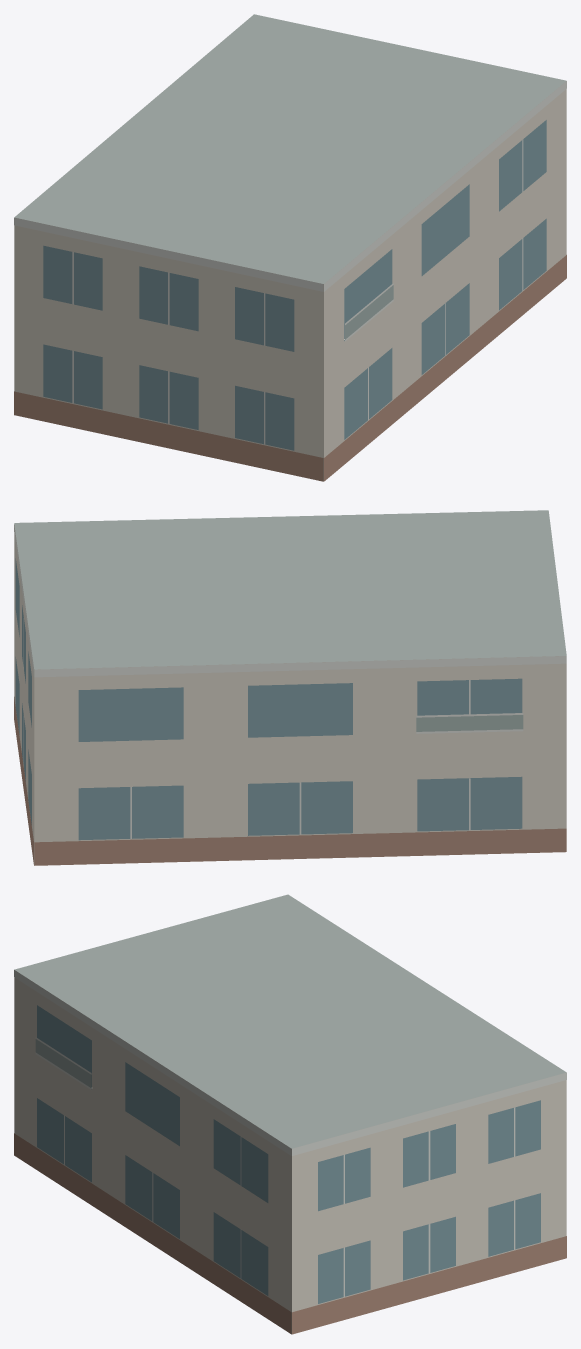
Rendered from survey-upis-32753232.glb.
The picture shows the model from 3 angles, top to bottom: view 1: azimuth 30°, elevation 25°; view 2: azimuth 150°, elevation 25°; view 3: azimuth 270°, elevation 25°; orthographic projection. The views are drawn at different scales.
Parts seen in each view (by area): view 1: survey-upis-32753232.tmp; view 2: survey-upis-32753232.tmp; view 3: survey-upis-32753232.tmp.
Part boxes in pixels (x1,y1,x2,y2): survey-upis-32753232.tmp: (14,14,566,481); survey-upis-32753232.tmp: (14,510,566,865); survey-upis-32753232.tmp: (14,894,566,1334).
Bounding box in the file's own units: 17.93 × 6.1 × 16.46.
